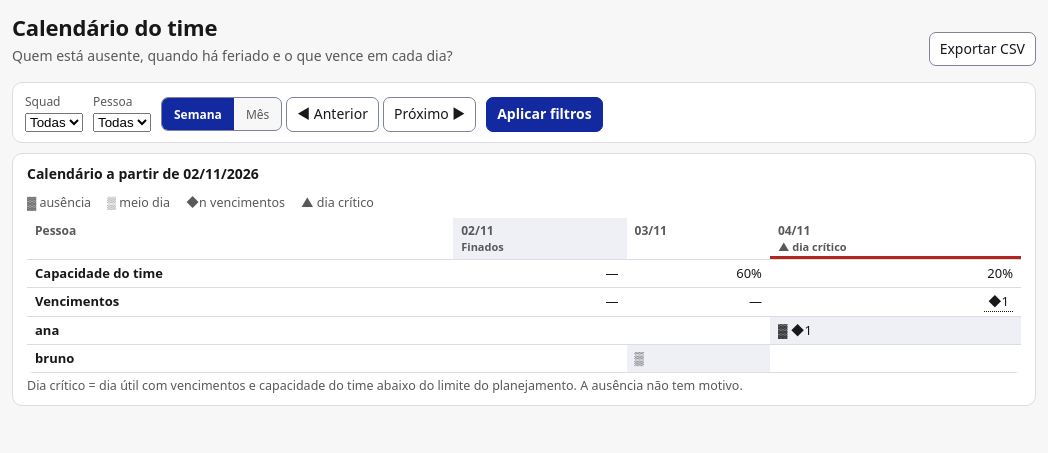
Test case: tela Calendário do time › alternaSemanaEMesEnavega
The width and height of the screenshot is (1048, 453).
Click the button "Mês": (258, 114) [234,98,281,130]
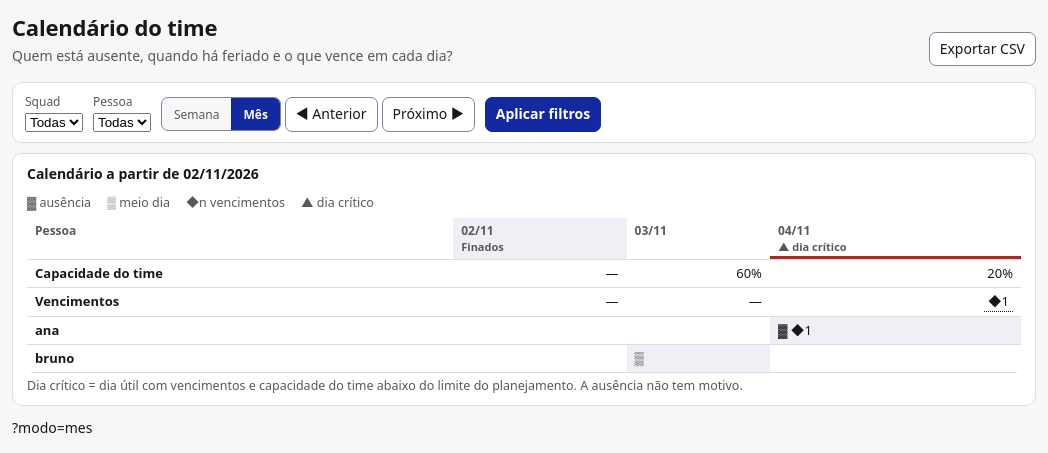
Expected: the text with test id "url" shows "modo=mes", [12,418,92,437]
Click the button "Próximo ▶": (428, 114) [382,97,475,132]
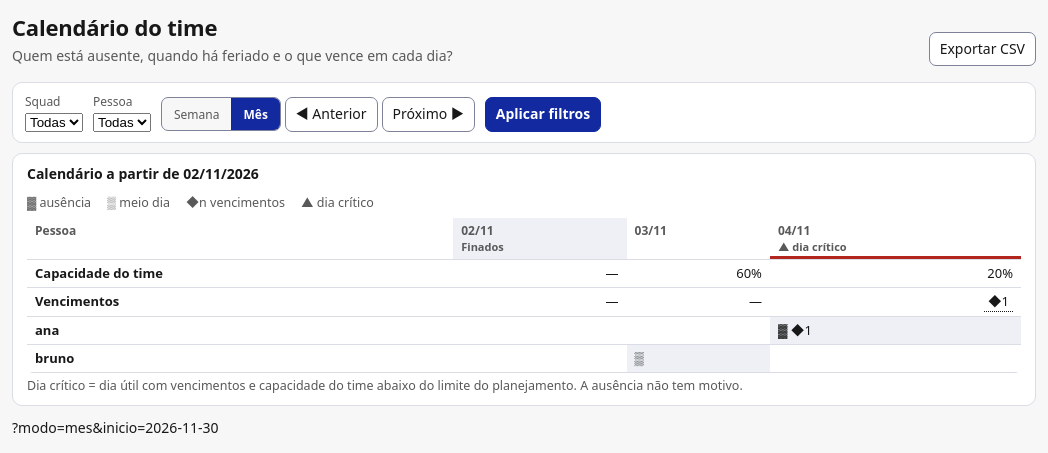
Expected: the text with test id "url" shows "inicio=2026-11-30", [12,418,218,437]
